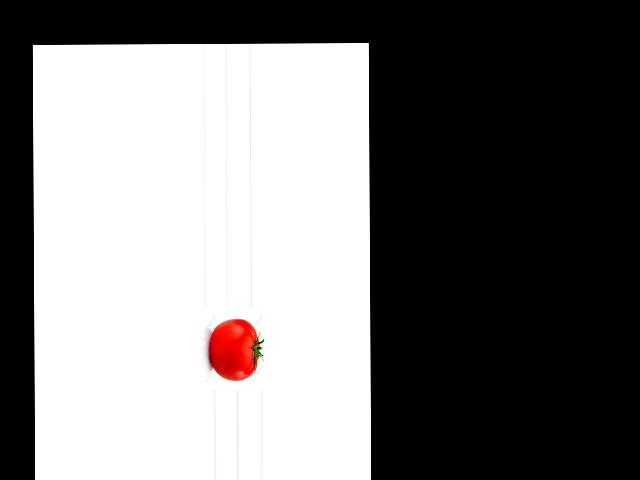tomato: (210, 318, 259, 380)
